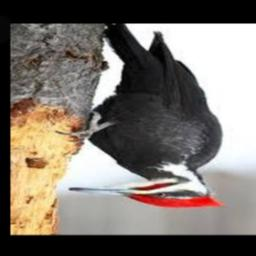Woodpecker: (55, 24, 221, 207)
